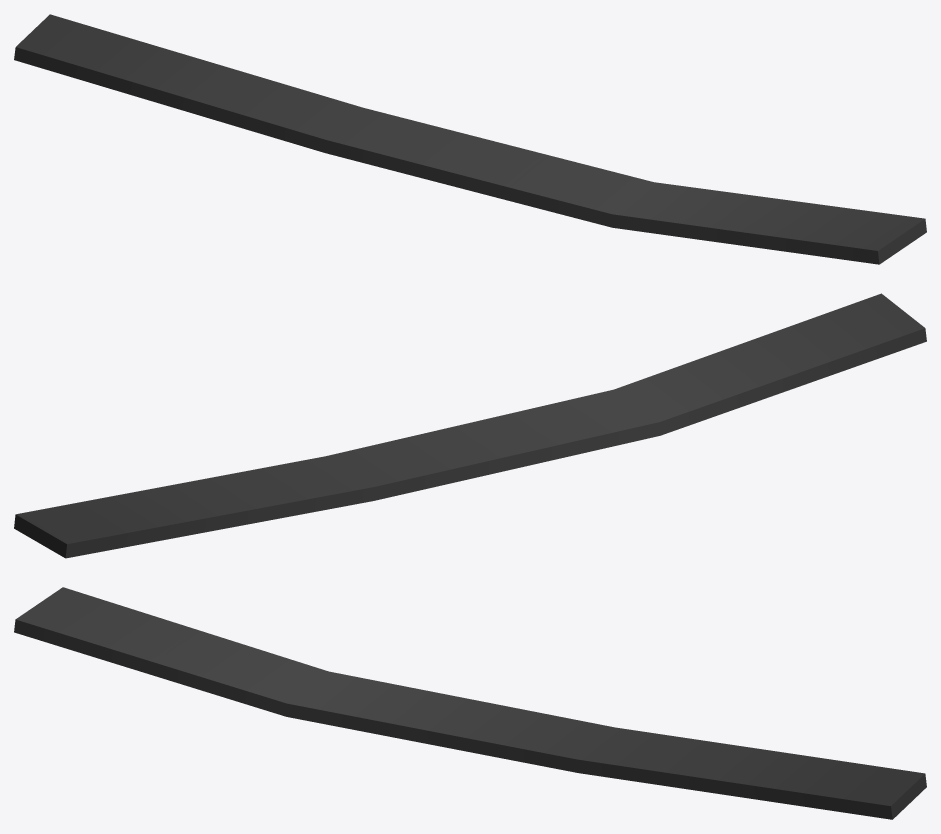
Rendered from LanternLine_02Collider.FBX.
3 renders of one model, top to bottom at view 1: azimuth 90°, elevation 25°; view 2: azimuth 150°, elevation 25°; view 3: azimuth 270°, elevation 25°, orthographic. The views are drawn at different scales.
Parts seen in each view (by area): view 1: LanternLine_02Collider; view 2: LanternLine_02Collider; view 3: LanternLine_02Collider.
Part boxes in pixels (<box>): LanternLine_02Collider: <box>14,14,926,264</box>; LanternLine_02Collider: <box>14,293,926,558</box>; LanternLine_02Collider: <box>14,587,926,819</box>.
Size of the model in its own units: 230 by 21.56 by 387.
1 material, 1 textured.
